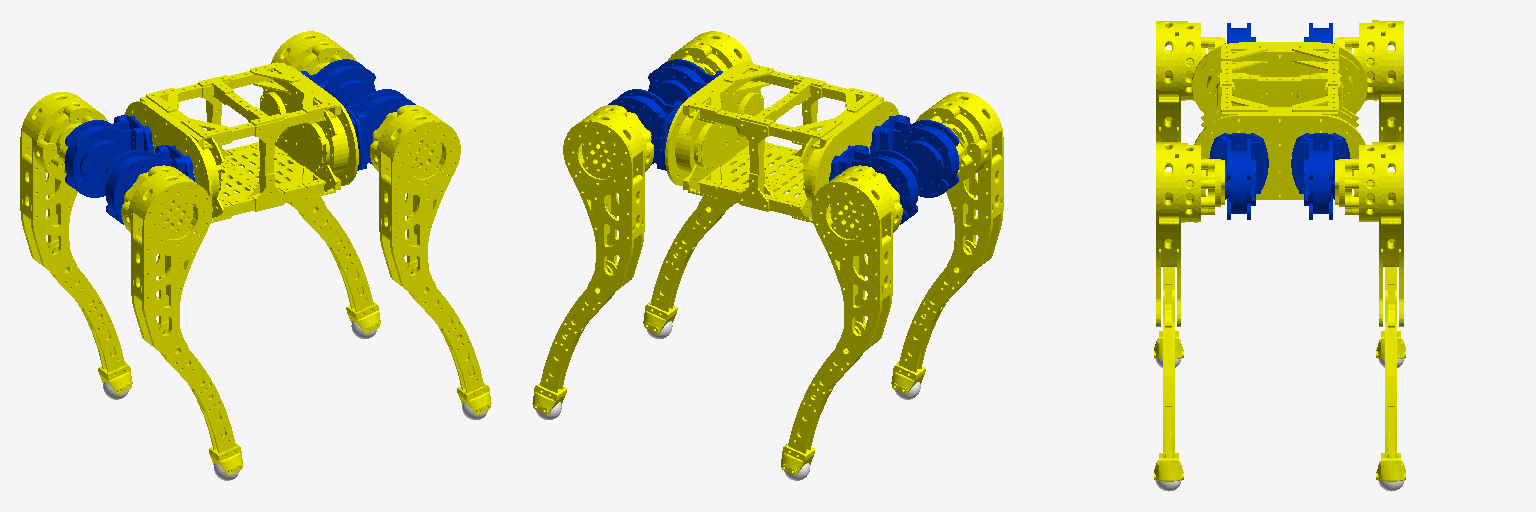
The robot description file, URDF, robot "g308_km2":
<?xml version="1.0" encoding="utf-8"?>
<!-- This URDF was automatically created by SolidWorks to URDF Exporter! Originally created by [author] ([email redacted]) 
     Commit Version: 1.6.0-4-g7f85cfe  Build Version: 1.6.7995.38578
     For more information, please see http://wiki.ros.org/sw_urdf_exporter -->
<robot
  name="g308_km2">
  <link
    name="base">
    <inertial>
      <origin
        xyz="0.021402 -0.000011 0.005632"
        rpy="0 0 0" />
      <mass
        value="4.135266" />
      <inertia
        ixx="0.022287"
        ixy="0.0"
        ixz="0.0"
        iyy="0.052865"
        iyz="-0.000002"
        izz="0.063659" />
    </inertial>
    <visual>
      <origin
        xyz="0 0 0"
        rpy="0 0 0" />
      <geometry>
        <mesh
          filename="package://g308_km2/meshes/base_link.STL" />
      </geometry>
      <material
        name="">
        <color
          rgba="1 1 0 1" />
      </material>
    </visual>
    <collision>
      <origin
        xyz="0 0 0"
        rpy="0 0 0" />
      <geometry>
        <mesh
          filename="package://g308_km2/meshes/base_link.STL" />
      </geometry>
    </collision>
  </link>
  <!-- <joint
    name="RR_hip_joint"
    type="revolute">
    <origin
      xyz="-0.12709 -0.0615 0.0077356"
      rpy="0 0 0" />
    <parent
      link="base" />
    <child
      link="RR_hip" />
    <axis
      xyz="1 0 0" />
    <limit
      lower="0"
      upper="0"
      effort="20"
      velocity="10" />
  </joint> -->
  <link
    name="FL_hip">
    <inertial>
      <origin
        xyz="0.044862 0.000111 0.000121"
        rpy="0 0 0" />
      <mass
        value="1.000402" />
      <inertia
        ixx="0.000641"
        ixy="-0.000002"
        ixz="0.000002"
        iyy="0.001658"
        iyz="0.0"
        izz="0.001399" />
    </inertial>
    <visual>
      <origin
        xyz="0 0 0"
        rpy="0 0 0" />
      <geometry>
        <mesh
          filename="package://g308_km2/meshes/FL_hip.STL" />
      </geometry>
      <material
        name="">
        <color
          rgba="0.00784313725490196 0.23921568627451 0.823529411764706 1" />
      </material>
    </visual>
    <collision>
      <origin
        xyz="0 0 0"
        rpy="0 0 0" />
      <geometry>
        <mesh
          filename="package://g308_km2/meshes/FL_hip.STL" />
      </geometry>
    </collision>
  </link>
  <joint
    name="FL_hip_joint"
    type="revolute">
    <origin
      xyz="0.169896957635188 0.0614999999999988 0.00773563134770043"
      rpy="0 0 0" />
    <parent
      link="base" />
    <child
      link="FL_hip" />
    <axis
      xyz="1 0 0" />
    <limit
      lower="0"
      upper="0"
      effort="20"
      velocity="10" />
  </joint>
  <link
    name="FL_thigh">
    <inertial>
      <origin
        xyz="-0.002626 0.041377 -0.026580"
        rpy="0 0 0" />
      <mass
        value="1.657182" />
      <inertia
        ixx="0.007409"
        ixy="0.000182"
        ixz="-0.000733"
        iyy="0.007405"
        iyz="0.001031"
        izz="0.002280" />
    </inertial>
    <visual>
      <origin
        xyz="0 0 0"
        rpy="0 0 0" />
      <geometry>
        <mesh
          filename="package://g308_km2/meshes/FL_thigh.STL" />
      </geometry>
      <material
        name="">
        <color
          rgba="1 1 0 1" />
      </material>
    </visual>
    <collision>
      <origin
        xyz="0 0 0"
        rpy="0 0 0" />
      <geometry>
        <mesh
          filename="package://g308_km2/meshes/FL_thigh.STL" />
      </geometry>
    </collision>
  </link>
  <joint
    name="FL_thigh_joint"
    type="revolute">
    <origin
      xyz="0.0677000000000165 0.0389999999999984 0"
      rpy="0 0 0" />
    <parent
      link="FL_hip" />
    <child
      link="FL_thigh" />
    <axis
      xyz="0 -1 0" />
    <limit
      lower="0"
      upper="0"
      effort="20"
      velocity="10" />
  </joint>
  <link
    name="FL_calf">
    <inertial>
      <origin
        xyz="0.0502864361062866 -0.0100012628542901 -0.0913683307386556"
        rpy="0 0 0" />
      <mass
        value="0.24357427073011" />
      <inertia
        ixx="0.001367"
        ixy="0.0"
        ixz="0.000642"
        iyy="0.001698"
        iyz="0.0"
        izz="0.000356" />
    </inertial>
    <visual>
      <origin
        xyz="0 0 0"
        rpy="0 0 0" />
      <geometry>
        <mesh
          filename="package://g308_km2/meshes/FL_calf.STL" />
      </geometry>
      <material
        name="">
        <color
          rgba="1 1 0 1" />
      </material>
    </visual>
    <collision>
      <origin
        xyz="0 0 0"
        rpy="0 0 0" />
      <geometry>
        <mesh
          filename="package://g308_km2/meshes/FL_calf.STL" />
      </geometry>
    </collision>
  </link>
  <joint
    name="FL_calf_joint"
    type="revolute">
    <origin
      xyz="0 0.0765000024826573 -0.22000000617793"
      rpy="0 0 0" />
    <parent
      link="FL_thigh" />
    <child
      link="FL_calf" />
    <axis
      xyz="0 1 0" />
    <limit
      lower="0"
      upper="0"
      effort="20"
      velocity="10" />
  </joint>
  <link
    name="FL_foot">
    <inertial>
      <origin
        xyz="-0.000006 0.0 -9.21846519300606E-05"
        rpy="0 0 0" />
      <mass
        value="0.0311902243903798" />
      <inertia
        ixx="5.01347937484814E-06"
        ixy="-8.23952528788361E-13"
        ixz="-1.58989737485414E-08"
        iyy="5.06120841117782E-06"
        iyz="-1.84888830000075E-13"
        izz="4.99040323981824E-06" />
    </inertial>
    <visual>
      <origin
        xyz="0 0 0"
        rpy="0 0 0" />
      <geometry>
        <mesh
          filename="package://g308_km2/meshes/FL_foot.STL" />
      </geometry>
      <material
        name="">
        <color
          rgba="1 1 1 1" />
      </material>
    </visual>
    <collision>
      <origin
        xyz="0 0 0"
        rpy="0 0 0" />
      <geometry>
        <mesh
          filename="package://g308_km2/meshes/FL_foot.STL" />
      </geometry>
    </collision>
  </link>
  <joint
    name="FL_foot_joint"
    type="fixed">
    <origin
      xyz="0.0961788196628297 -0.00999999474772562 -0.224142335649936"
      rpy="0 0 0" />
    <parent
      link="FL_calf" />
    <child
      link="FL_foot" />
    <axis
      xyz="0 0 0" />
    <limit
      effort="20"
      velocity="10" />
  </joint>
  <link
    name="RL_hip">
    <inertial>
      <origin
        xyz="-0.044862 0.000111 0.000055"
        rpy="0 0 0" />
      <mass
        value="1.000402" />
      <inertia
        ixx="0.000641"
        ixy="0.000001"
        ixz="-0.000004"
        iyy="0.001658"
        iyz="0.0"
        izz="0.001399" />
    </inertial>
    <visual>
      <origin
        xyz="0 0 0"
        rpy="0 0 0" />
      <geometry>
        <mesh
          filename="package://g308_km2/meshes/RL_hip.STL" />
      </geometry>
      <material
        name="">
        <color
          rgba="0.00784313725490196 0.23921568627451 0.823529411764706 1" />
      </material>
    </visual>
    <collision>
      <origin
        xyz="0 0 0"
        rpy="0 0 0" />
      <geometry>
        <mesh
          filename="package://g308_km2/meshes/RL_hip.STL" />
      </geometry>
    </collision>
  </link>
  <joint
    name="RL_hip_joint"
    type="revolute">
    <origin
      xyz="-0.127094802324013 0.0615000000000004 0.00773563134769126"
      rpy="0 0 0" />
    <parent
      link="base" />
    <child
      link="RL_hip" />
    <axis
      xyz="1 0 0" />
    <limit
      lower="0"
      upper="0"
      effort="20"
      velocity="10" />
  </joint>
  <link
    name="RL_thigh">
    <inertial>
      <origin
        xyz="-0.014268 0.021377 -0.014939"
        rpy="0 0 0" />
      <mass
        value="1.657182" />
      <inertia
        ixx="0.007409"
        ixy="0.000182"
        ixz="-0.000733"
        iyy="0.007405"
        iyz="0.001031"
        izz="0.002280" />
    </inertial>
    <visual>
      <origin
        xyz="0 0 0"
        rpy="0 0 0" />
      <geometry>
        <mesh
          filename="package://g308_km2/meshes/RL_thigh.STL" />
      </geometry>
      <material
        name="">
        <color
          rgba="1 1 0 1" />
      </material>
    </visual>
    <collision>
      <origin
        xyz="0 0 0"
        rpy="0 0 0" />
      <geometry>
        <mesh
          filename="package://g308_km2/meshes/RL_thigh.STL" />
      </geometry>
    </collision>
  </link>
  <joint
    name="RL_thigh_joint"
    type="revolute">
    <origin
      xyz="-0.0560585780326773 0.0590000000000006 -0.0116414219673209"
      rpy="0 0 0" />
    <parent
      link="RL_hip" />
    <child
      link="RL_thigh" />
    <axis
      xyz="0 -1 0" />
    <limit
      lower="0"
      upper="0"
      effort="20"
      velocity="10" />
  </joint>
  <link
    name="RL_calf">
    <inertial>
      <origin
        xyz="0.0502864229249339 -0.0100012603719431 -0.0913683369164015"
        rpy="0 0 0" />
      <mass
        value="0.243574270730111" />
      <inertia
        ixx="0.001367"
        ixy="0.0"
        ixz="-0.000642"
        iyy="0.001698"
        iyz="0.0"
        izz="0.000356" />
    </inertial>
    <visual>
      <origin
        xyz="0 0 0"
        rpy="0 0 0" />
      <geometry>
        <mesh
          filename="package://g308_km2/meshes/RL_calf.STL" />
      </geometry>
      <material
        name="">
        <color
          rgba="1 1 0 1" />
      </material>
    </visual>
    <collision>
      <origin
        xyz="0 0 0"
        rpy="0 0 0" />
      <geometry>
        <mesh
          filename="package://g308_km2/meshes/RL_calf.STL" />
      </geometry>
    </collision>
  </link>
  <joint
    name="RL_calf_joint"
    type="revolute">
    <origin
      xyz="-0.0116414219673151 0.0565000000000057 -0.208358578032676"
      rpy="0 0 0" />
    <parent
      link="RL_thigh" />
    <child
      link="RL_calf" />
    <axis
      xyz="0 1 0" />
    <limit
      lower="0"
      upper="0"
      effort="20"
      velocity="10" />
  </joint>
  <link
    name="RL_foot">
    <inertial>
      <origin
        xyz="-5.85322688909096E-06 2.61542565382911E-10 -9.2190868305364E-05"
        rpy="0 0 0" />
      <mass
        value="0.0311902243903798" />
      <inertia
        ixx="5.01347937484815E-06"
        ixy="-8.23952529291106E-13"
        ixz="-1.58989737485399E-08"
        iyy="5.06120841117782E-06"
        iyz="-1.8488882759212E-13"
        izz="4.99040323981824E-06" />
    </inertial>
    <visual>
      <origin
        xyz="0 0 0"
        rpy="0 0 0" />
      <geometry>
        <mesh
          filename="package://g308_km2/meshes/RL_foot.STL" />
      </geometry>
      <material
        name="">
        <color
          rgba="1 1 1 1" />
      </material>
    </visual>
    <collision>
      <origin
        xyz="0 0 0"
        rpy="0 0 0" />
      <geometry>
        <mesh
          filename="package://g308_km2/meshes/RL_foot.STL" />
      </geometry>
    </collision>
  </link>
  <joint
    name="RL_foot_joint"
    type="fixed">
    <origin
      xyz="0.0961788196898257 -0.00999999468162976 -0.224142335611317"
      rpy="0 0 0" />
    <parent
      link="RL_calf" />
    <child
      link="RL_foot" />
    <axis
      xyz="0 0 0" />
  </joint>
  <link
    name="FR_hip">
    <inertial>
      <origin
        xyz="0.044862 -0.000111 0.000055"
        rpy="0 0 0" />
      <mass
        value="1.000402" />
      <inertia
        ixx="0.000641"
        ixy="0.000001"
        ixz="0.000004"
        iyy="0.001658"
        iyz="0.0"
        izz="0.001399" />
    </inertial>
    <visual>
      <origin
        xyz="0 0 0"
        rpy="0 0 0" />
      <geometry>
        <mesh
          filename="package://g308_km2/meshes/FR_hip.STL" />
      </geometry>
      <material
        name="">
        <color
          rgba="0.00784313725490196 0.23921568627451 0.823529411764706 1" />
      </material>
    </visual>
    <collision>
      <origin
        xyz="0 0 0"
        rpy="0 0 0" />
      <geometry>
        <mesh
          filename="package://g308_km2/meshes/FR_hip.STL" />
      </geometry>
    </collision>
  </link>
  <joint
    name="FR_hip_joint"
    type="revolute">
    <origin
      xyz="0.169896957585034 -0.0615000000501541 0.00773564344453465"
      rpy="0 0 0" />
    <parent
      link="base" />
    <child
      link="FR_hip" />
    <axis
      xyz="-1 0 0" />
    <limit
      lower="0"
      upper="0"
      effort="20"
      velocity="10" />
  </joint>
  <link
    name="FR_thigh">
    <inertial>
      <origin
        xyz="-0.014239 0.021377 -0.014910"
        rpy="0 0 0" />
      <mass
        value="1.657182" />
      <inertia
        ixx="0.007412"
        ixy="-0.000183"
        ixz="-0.000734"
        iyy="0.007408"
        iyz="-0.001032"
        izz="0.002281" />
    </inertial>
    <visual>
      <origin
        xyz="0 0 0"
        rpy="0 0 0" />
      <geometry>
        <mesh
          filename="package://g308_km2/meshes/FR_thigh.STL" />
      </geometry>
      <material
        name="">
        <color
          rgba="1 1 0 1" />
      </material>
    </visual>
    <collision>
      <origin
        xyz="0 0 0"
        rpy="0 0 0" />
      <geometry>
        <mesh
          filename="package://g308_km2/meshes/FR_thigh.STL" />
      </geometry>
    </collision>
  </link>
  <joint
    name="FR_thigh_joint"
    type="revolute">
    <origin
      xyz="0.0793414219628311 -0.0590000000044883 -0.0116414499397221"
      rpy="0 0 0" />
    <parent
      link="FR_hip" />
    <child
      link="FR_thigh" />
    <axis
      xyz="0 1 0" />
    <limit
      lower="0"
      upper="0"
      effort="20"
      velocity="10" />
  </joint>
  <link
    name="FR_calf">
    <inertial>
      <origin
        xyz="0.0502864229249339 -0.0100012603719431 -0.0913683369164015"
        rpy="0 0 0" />
      <mass
        value="0.243574270730111" />
      <inertia
        ixx="0.001367"
        ixy="0.0"
        ixz="0.000642"
        iyy="0.001698"
        iyz="0.0"
        izz="0.000356" />
    </inertial>
    <visual>
      <origin
        xyz="0 0 0"
        rpy="0 0 0" />
      <geometry>
        <mesh
          filename="package://g308_km2/meshes/FR_calf.STL" />
      </geometry>
      <material
        name="">
        <color
          rgba="1 1 0 1" />
      </material>
    </visual>
    <collision>
      <origin
        xyz="0 0 0"
        rpy="0 0 0" />
      <geometry>
        <mesh
          filename="package://g308_km2/meshes/FR_calf.STL" />
      </geometry>
    </collision>
  </link>
  <joint
    name="FR_calf_joint"
    type="revolute">
    <origin
      xyz="-0.0116414038818166 -0.0365000120545385 -0.208358576391672"
      rpy="0 0 0" />
    <parent
      link="FR_thigh" />
    <child
      link="FR_calf" />
    <axis
      xyz="0 1 0" />
    <limit
      lower="0"
      upper="0"
      effort="20"
      velocity="10" />
  </joint>
  <link
    name="FR_foot">
    <inertial>
      <origin
        xyz="-5.85322568097402E-06 2.64939459260205E-10 -9.21908797132942E-05"
        rpy="0 0 0" />
      <mass
        value="0.0311902243903797" />
      <inertia
        ixx="5.01347937484811E-06"
        ixy="-8.23952528235531E-13"
        ixz="-1.58989737485516E-08"
        iyy="5.06120841117781E-06"
        iyz="-1.84888823216108E-13"
        izz="4.99040323981825E-06" />
    </inertial>
    <visual>
      <origin
        xyz="0 0 0"
        rpy="0 0 0" />
      <geometry>
        <mesh
          filename="package://g308_km2/meshes/FR_foot.STL" />
      </geometry>
      <material
        name="">
        <color
          rgba="1 1 1 1" />
      </material>
    </visual>
    <collision>
      <origin
        xyz="0 0 0"
        rpy="0 0 0" />
      <geometry>
        <mesh
          filename="package://g308_km2/meshes/FR_foot.STL" />
      </geometry>
    </collision>
  </link>
  <joint
    name="FR_foot_joint"
    type="fixed">
    <origin
      xyz="0.096178801658822 -0.00999998257200752 -0.224142321376693"
      rpy="0 0 0" />
    <parent
      link="FR_calf" />
    <child
      link="FR_foot" />
    <axis
      xyz="0 0 0" />
  </joint>
  <link
    name="RR_hip">
    <inertial>
      <origin
        xyz="-0.044862 -0.000111 0.000121"
        rpy="0 0 0" />
      <mass
        value="1.000402" />
      <inertia
        ixx="0.000641"
        ixy="-0.000002"
        ixz="-0.000002"
        iyy="0.001658"
        iyz="0.0"
        izz="0.001399" />
    </inertial>
    <visual>
      <origin
        xyz="0 0 0"
        rpy="0 0 0" />
      <geometry>
        <mesh
          filename="package://g308_km2/meshes/RR_hip.STL" />
      </geometry>
      <material
        name="">
        <color
          rgba="0.00784313725490196 0.23921568627451 0.823529411764706 1" />
      </material>
    </visual>
    <collision>
      <origin
        xyz="0 0 0"
        rpy="0 0 0" />
      <geometry>
        <mesh
          filename="package://g308_km2/meshes/RR_hip.STL" />
      </geometry>
    </collision>
  </link>
  <joint
    name="RR_hip_joint"
    type="revolute">
    <origin
      xyz="-0.127094802324014 -0.0614999999999988 0.00773563134771131"
      rpy="0 0 0" />
    <parent
      link="base" />
    <child
      link="RR_hip" />
    <axis
      xyz="1 0 0" />
    <limit
      lower="0"
      upper="0"
      effort="20"
      velocity="10" />
  </joint>
  <link
    name="RR_thigh">
    <inertial>
      <origin
        xyz="-0.014239 -0.021377 -0.014910"
        rpy="0 0 0" />
      <mass
        value="1.657182" />
      <inertia
        ixx="0.007412"
        ixy="-0.000183"
        ixz="-0.000734"
        iyy="0.007408"
        iyz="-0.001032"
        izz="0.002281" />
    </inertial>
    <visual>
      <origin
        xyz="0 0 0"
        rpy="0 0 0" />
      <geometry>
        <mesh
          filename="package://g308_km2/meshes/RR_thigh.STL" />
      </geometry>
      <material
        name="">
        <color
          rgba="1 1 0 1" />
      </material>
    </visual>
    <collision>
      <origin
        xyz="0 0 0"
        rpy="0 0 0" />
      <geometry>
        <mesh
          filename="package://g308_km2/meshes/RR_thigh.STL" />
      </geometry>
    </collision>
  </link>
  <joint
    name="RR_thigh_joint"
    type="revolute">
    <origin
      xyz="-0.0560585780326786 -0.0589999999999984 -0.0116414219673416"
      rpy="0 0 0" />
    <parent
      link="RR_hip" />
    <child
      link="RR_thigh" />
    <axis
      xyz="0 1 0" />
    <limit
      lower="0"
      upper="0"
      effort="20"
      velocity="10" />
  </joint>
  <link
    name="RR_calf">
    <inertial>
      <origin
        xyz="0.0502864229249339 -0.0100012603719431 -0.0913683369164015"
        rpy="0 0 0" />
      <mass
        value="0.243574270730111" />
      <inertia
        ixx="0.001367"
        ixy="0.0"
        ixz="0.000642"
        iyy="0.001698"
        iyz="0.0"
        izz="0.000356" />
    </inertial>
    <visual>
      <origin
        xyz="0 0 0"
        rpy="0 0 0" />
      <geometry>
        <mesh
          filename="package://g308_km2/meshes/RR_calf.STL" />
      </geometry>
      <material
        name="">
        <color
          rgba="1 1 0 1" />
      </material>
    </visual>
    <collision>
      <origin
        xyz="0 0 0"
        rpy="0 0 0" />
      <geometry>
        <mesh
          filename="package://g308_km2/meshes/RR_calf.STL" />
      </geometry>
    </collision>
  </link>
  <joint
    name="RR_calf_joint"
    type="revolute">
    <origin
      xyz="-0.0116414073695187 -0.0365000163770425 -0.208358573653802"
      rpy="0 0 0" />
    <parent
      link="RR_thigh" />
    <child
      link="RR_calf" />
    <axis
      xyz="0 1 0" />
    <limit
      lower="0"
      upper="0"
      effort="20"
      velocity="10" />
  </joint>
  <link
    name="RR_foot">
    <inertial>
      <origin
        xyz="-5.85322945402533E-06 2.69323785495601E-10 -9.21908810186389E-05"
        rpy="0 0 0" />
      <mass
        value="0.0311902243903798" />
      <inertia
        ixx="5.01347937484812E-06"
        ixy="-8.2395252888934E-13"
        ixz="-1.58989737485532E-08"
        iyy="5.06120841117781E-06"
        iyz="-1.84888826512745E-13"
        izz="4.99040323981825E-06" />
    </inertial>
    <visual>
      <origin
        xyz="0 0 0"
        rpy="0 0 0" />
      <geometry>
        <mesh
          filename="package://g308_km2/meshes/RR_foot.STL" />
      </geometry>
      <material
        name="">
        <color
          rgba="1 1 1 1" />
      </material>
    </visual>
    <collision>
      <origin
        xyz="0 0 0"
        rpy="0 0 0" />
      <geometry>
        <mesh
          filename="package://g308_km2/meshes/RR_foot.STL" />
      </geometry>
    </collision>
  </link>
  <joint
    name="RR_foot_joint"
    type="fixed">
    <origin
      xyz="0.0961788050922009 -0.0099999783045851 -0.224142339990188"
      rpy="0 0 0" />
    <parent
      link="RR_calf" />
    <child
      link="RR_foot" />
    <axis
      xyz="0 0 0" />
  </joint>
</robot>

--- What the picture shows (computed from the rendered views, not written in the file) ---
3 views of the same robot in one strip: view 1: azimuth 30°, elevation 25°; view 2: azimuth 150°, elevation 25°; view 3: azimuth 270°, elevation 25° (orthographic).
Model g308_km2 with 17 links and 16 joints (12 revolute, 4 fixed), rooted at base, posed every joint at zero.
Links seen in each view (by area): view 1: base, FR_thigh, RR_thigh, RL_thigh, RL_hip, FR_calf, RR_calf, RL_calf, FL_calf, FL_thigh, RR_hip, FR_hip (+1 smaller); view 2: base, FL_thigh, RL_thigh, RR_thigh, RR_hip, FL_calf, RL_calf, RR_calf, FR_calf, FR_thigh, RL_hip, FL_hip (+1 smaller); view 3: base, FR_thigh, FL_thigh, RL_thigh, RR_thigh, FR_hip, FL_hip, FL_calf, FR_calf, RL_calf, RR_calf.
Link boxes in pixels (left/top/right/bottom): base: left=124, top=62, right=358, bottom=222; FR_thigh: left=370, top=105, right=460, bottom=300; RR_thigh: left=121, top=165, right=212, bottom=361; RL_thigh: left=20, top=92, right=107, bottom=280; RL_hip: left=64, top=115, right=153, bottom=197; FR_calf: left=407, top=260, right=491, bottom=414; RR_calf: left=159, top=321, right=242, bottom=475; RL_calf: left=48, top=240, right=132, bottom=394; FL_calf: left=298, top=180, right=380, bottom=333; FL_thigh: left=271, top=31, right=355, bottom=219; RR_hip: left=105, top=145, right=194, bottom=224; FR_hip: left=341, top=89, right=415, bottom=170; base: left=665, top=62, right=899, bottom=222; FL_thigh: left=563, top=105, right=653, bottom=300; RL_thigh: left=811, top=165, right=902, bottom=361; RR_thigh: left=916, top=92, right=1003, bottom=280; RR_hip: left=870, top=115, right=959, bottom=197; FL_calf: left=532, top=260, right=616, bottom=414; RL_calf: left=781, top=321, right=864, bottom=475; RR_calf: left=891, top=240, right=975, bottom=394; FR_calf: left=643, top=180, right=725, bottom=333; FR_thigh: left=668, top=31, right=752, bottom=219; RL_hip: left=829, top=145, right=918, bottom=224; FL_hip: left=608, top=89, right=683, bottom=170; base: left=1192, top=42, right=1367, bottom=199; FR_thigh: left=1156, top=142, right=1224, bottom=326; FL_thigh: left=1335, top=142, right=1403, bottom=326; RL_thigh: left=1335, top=20, right=1403, bottom=141; RR_thigh: left=1156, top=21, right=1224, bottom=141; FR_hip: left=1209, top=133, right=1268, bottom=219; FL_hip: left=1291, top=133, right=1350, bottom=219; FL_calf: left=1376, top=289, right=1405, bottom=481; FR_calf: left=1154, top=289, right=1183, bottom=481; RL_calf: left=1376, top=267, right=1405, bottom=358; RR_calf: left=1154, top=267, right=1183, bottom=358.
Bounding box of the posed robot: 0.6125 × 0.379 × 0.537 m (x, y, z).
Meshes: 17 distinct files referenced, 17 mesh visuals loaded (17 binary STL).
